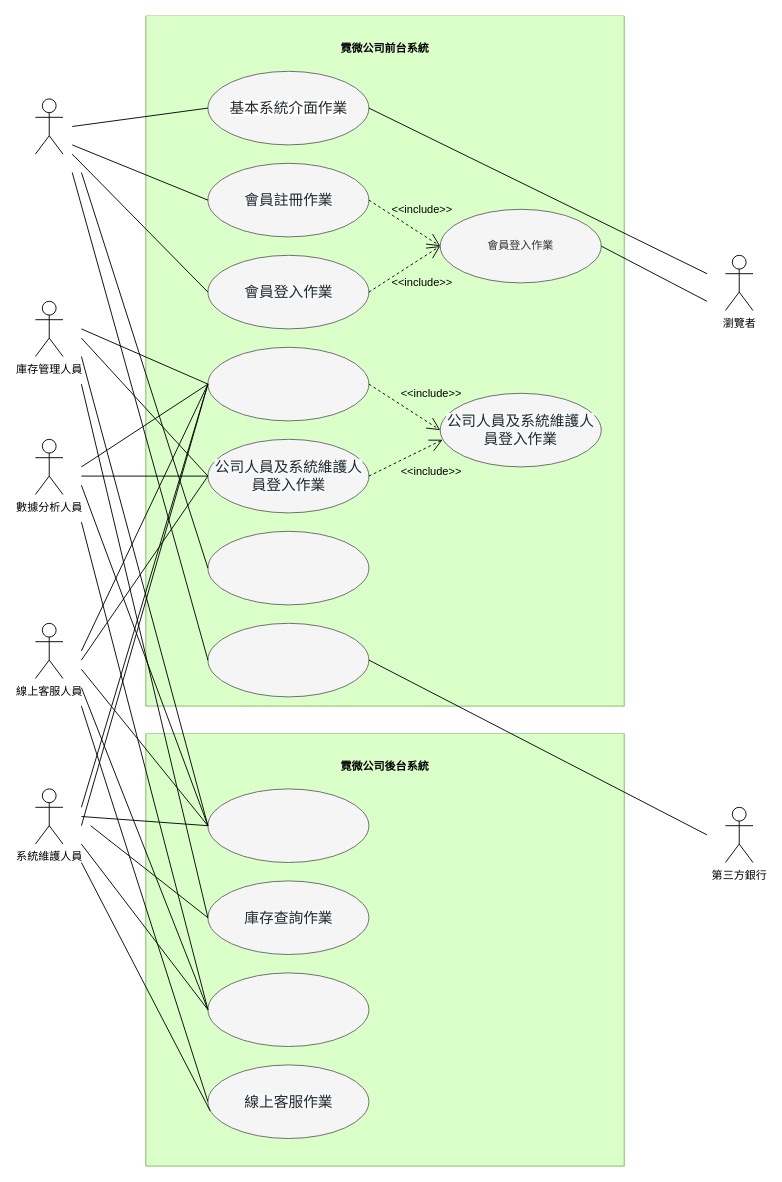
Image size: 782x1182. Some labels were removed from this diagram. The centre of each missing label's shape, as x and y in pixels:
"公司人員及系統維護人員註冊作業" belongs at (288,383).
"公司人員審核註冊作業" belongs at (288,825).
"客戶" belongs at (48,126).
"會員下單及結帳作業" belongs at (288,659).
"會員連接線上客服作業" belongs at (288,567).
"查詢訂單狀態作業" belongs at (288,1009).
